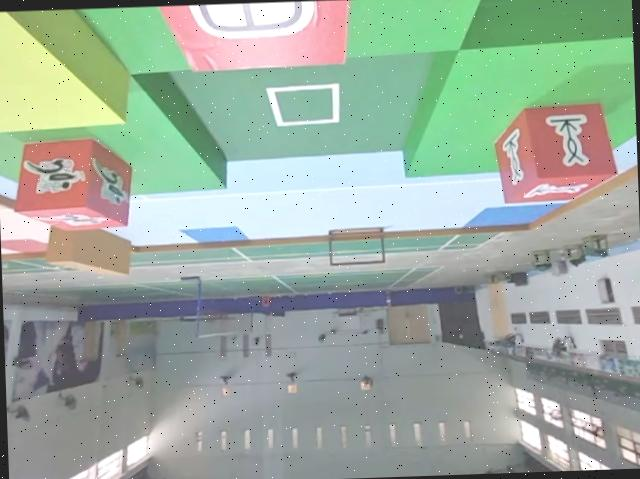R1: (12, 138, 136, 232)
R2 Fake: (153, 0, 347, 76)
R2 Real: (491, 104, 617, 203)
